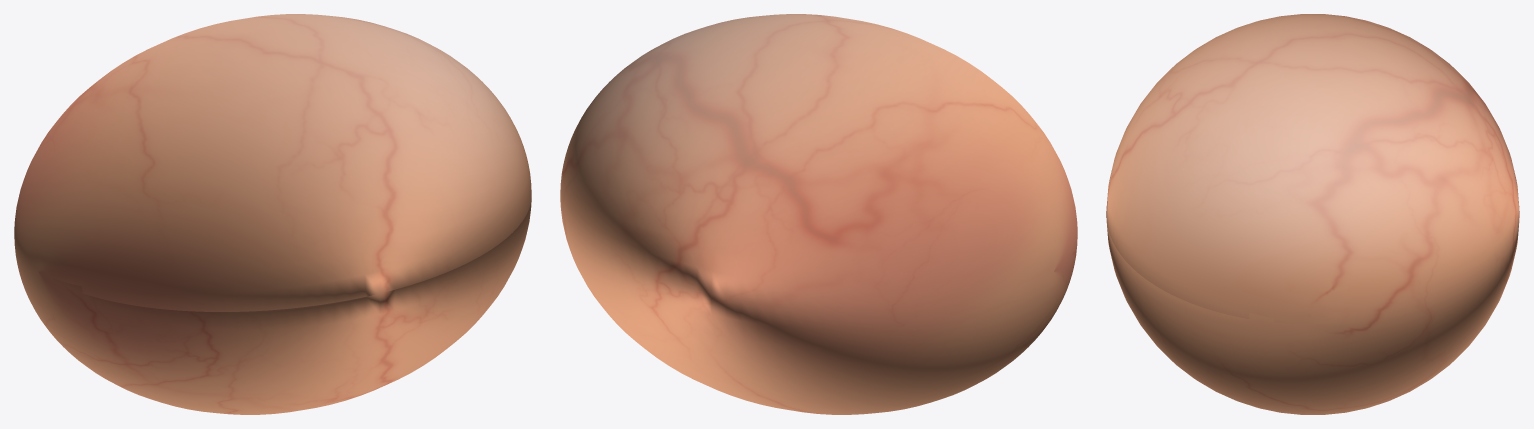
The picture shows the model from 3 angles, left to right: view 1: azimuth 30°, elevation 25°; view 2: azimuth 150°, elevation 25°; view 3: azimuth 270°, elevation 25°; orthographic projection. The views are drawn at different scales.
Parts seen in each view (by area): view 1: default; view 2: default; view 3: default.
Boxes of the visible parts, left/top/right/bottom form: default: left=14, top=14, right=531, bottom=414; default: left=560, top=14, right=1077, bottom=414; default: left=1106, top=14, right=1519, bottom=414.
Bounding box in the file's own units: 3.91 × 2.78 × 3.11.
Materials: 3 (3 with a texture image).
